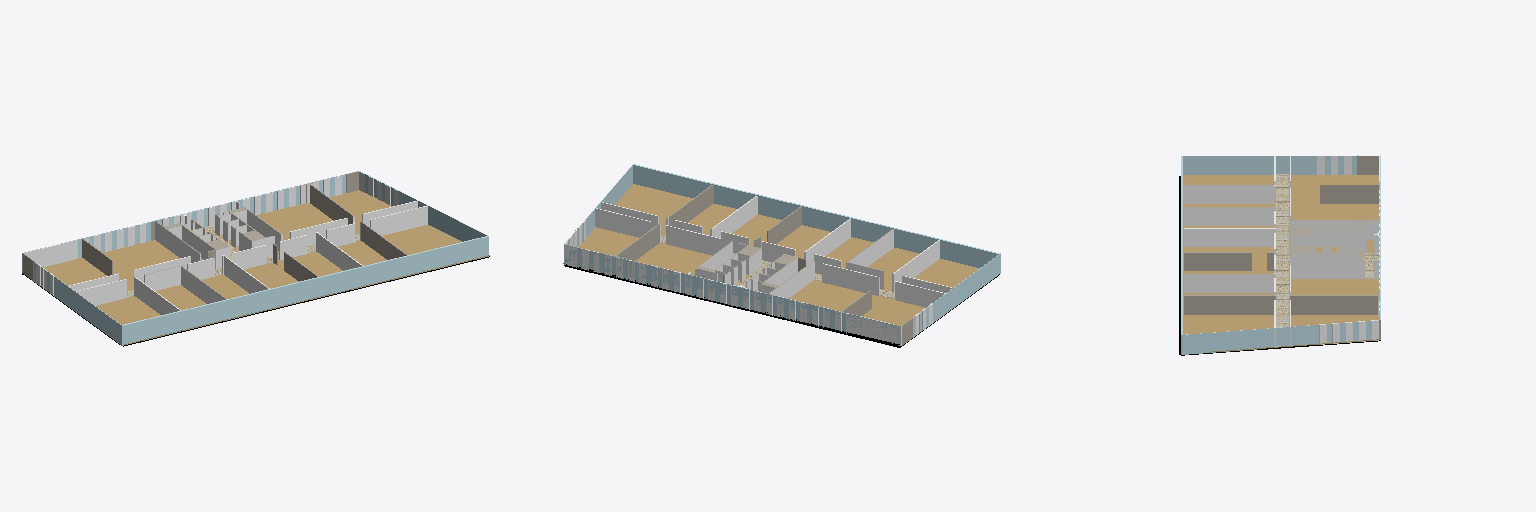
3 views of the same model, side by side, from view 1: azimuth 30°, elevation 25°; view 2: azimuth 150°, elevation 25°; view 3: azimuth 270°, elevation 25° (orthographic).
Parts seen in each view (by area): view 1: Mesh59, Group1, Mesh20, Mesh19, Group3, Group5, Mesh13, Group4, Mesh22, Mesh12, Mesh21, Mesh06 (+7 smaller); view 2: Mesh59, Group1, Group3, Mesh20, Mesh19, Group5, Mesh22, Mesh41, Mesh37, Mesh13, Mesh47, Mesh21 (+9 smaller); view 3: Mesh59, Group4, Group5, Mesh19, Mesh20, Mesh11, Mesh21, Mesh13, Mesh07, Mesh09, Mesh33, Mesh15 (+2 smaller).
Boxes of the visible parts, x1,y1,x2,y2 form: Mesh59: [43, 190, 489, 345]; Group1: [121, 236, 488, 345]; Mesh20: [151, 219, 229, 268]; Mesh19: [215, 207, 282, 255]; Group3: [24, 171, 357, 257]; Group5: [34, 262, 120, 344]; Mesh13: [144, 265, 225, 303]; Group4: [360, 171, 487, 241]; Mesh22: [22, 240, 77, 281]; Mesh12: [370, 205, 427, 235]; Mesh21: [300, 181, 354, 224]; Mesh06: [75, 279, 126, 305]; Mesh59: [563, 184, 979, 325]; Group1: [633, 164, 1000, 273]; Group3: [564, 244, 900, 345]; Mesh20: [746, 254, 814, 315]; Mesh19: [695, 241, 761, 285]; Group5: [913, 254, 999, 337]; Mesh22: [846, 313, 912, 345]; Mesh41: [822, 263, 879, 295]; Mesh37: [666, 225, 722, 255]; Mesh13: [846, 229, 893, 289]; Mesh47: [595, 208, 650, 237]; Mesh21: [605, 223, 660, 278]; Mesh59: [1181, 174, 1380, 354]; Group4: [1183, 320, 1376, 354]; Group5: [1183, 156, 1356, 174]; Mesh19: [1290, 246, 1364, 278]; Mesh20: [1290, 218, 1379, 252]; Mesh11: [1184, 295, 1275, 314]; Mesh21: [1290, 291, 1379, 315]; Mesh13: [1184, 190, 1275, 225]; Mesh07: [1183, 185, 1275, 203]; Mesh09: [1184, 273, 1275, 292]; Mesh33: [1184, 228, 1275, 246]; Mesh15: [1184, 252, 1251, 270].
Size of the model in its own units: 67.32 by 3.84 by 31.98.
Materials: 9 (1 with a texture image).